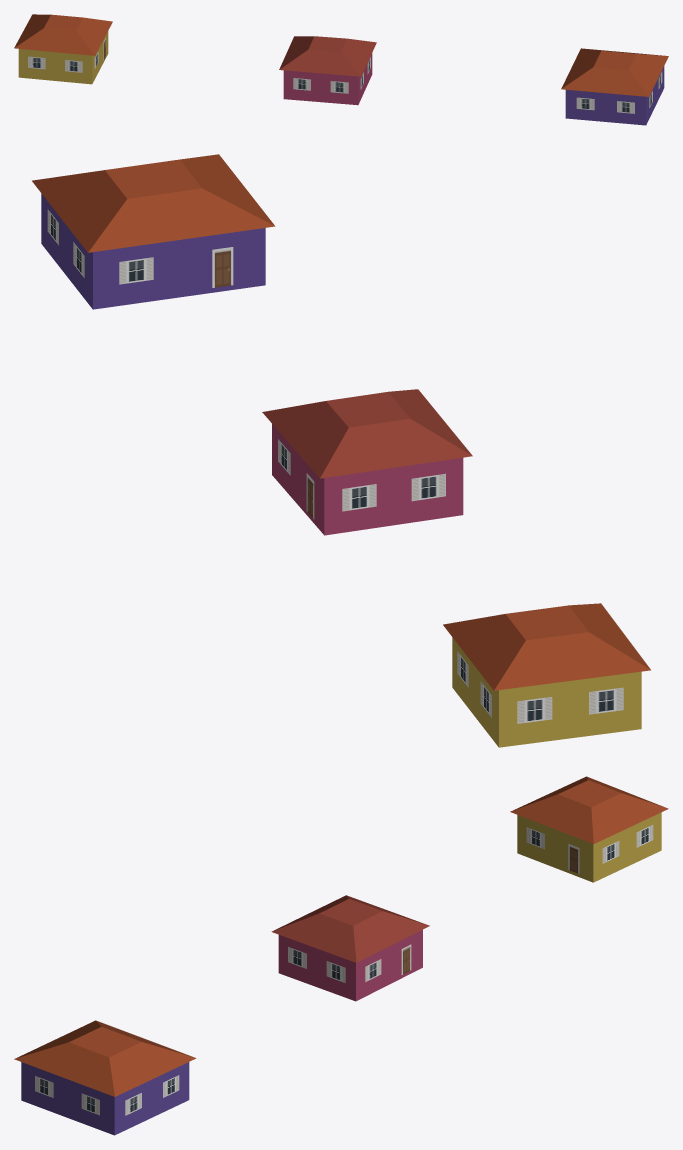
File: msb_oranjestad_m22_m2.glb
3 renders of one model, top to bottom at view 1: azimuth 30°, elevation 25°; view 2: azimuth 150°, elevation 25°; view 3: azimuth 270°, elevation 25°, orthographic. The views are drawn at different scales.
Visible parts, largest first — view 1: msb_oranjestad_m22_m2_lod0; view 2: msb_oranjestad_m22_m2_lod0; view 3: msb_oranjestad_m22_m2_lod0.
Boxes of the visible parts, left/top/right/bottom form: msb_oranjestad_m22_m2_lod0: left=14, top=14, right=668, bottom=125; msb_oranjestad_m22_m2_lod0: left=32, top=154, right=650, bottom=747; msb_oranjestad_m22_m2_lod0: left=14, top=776, right=668, bottom=1135.
Size of what is drawn, in the model's own units: 58.03 by 5.05 by 49.93.
2 materials, 1 textured.
